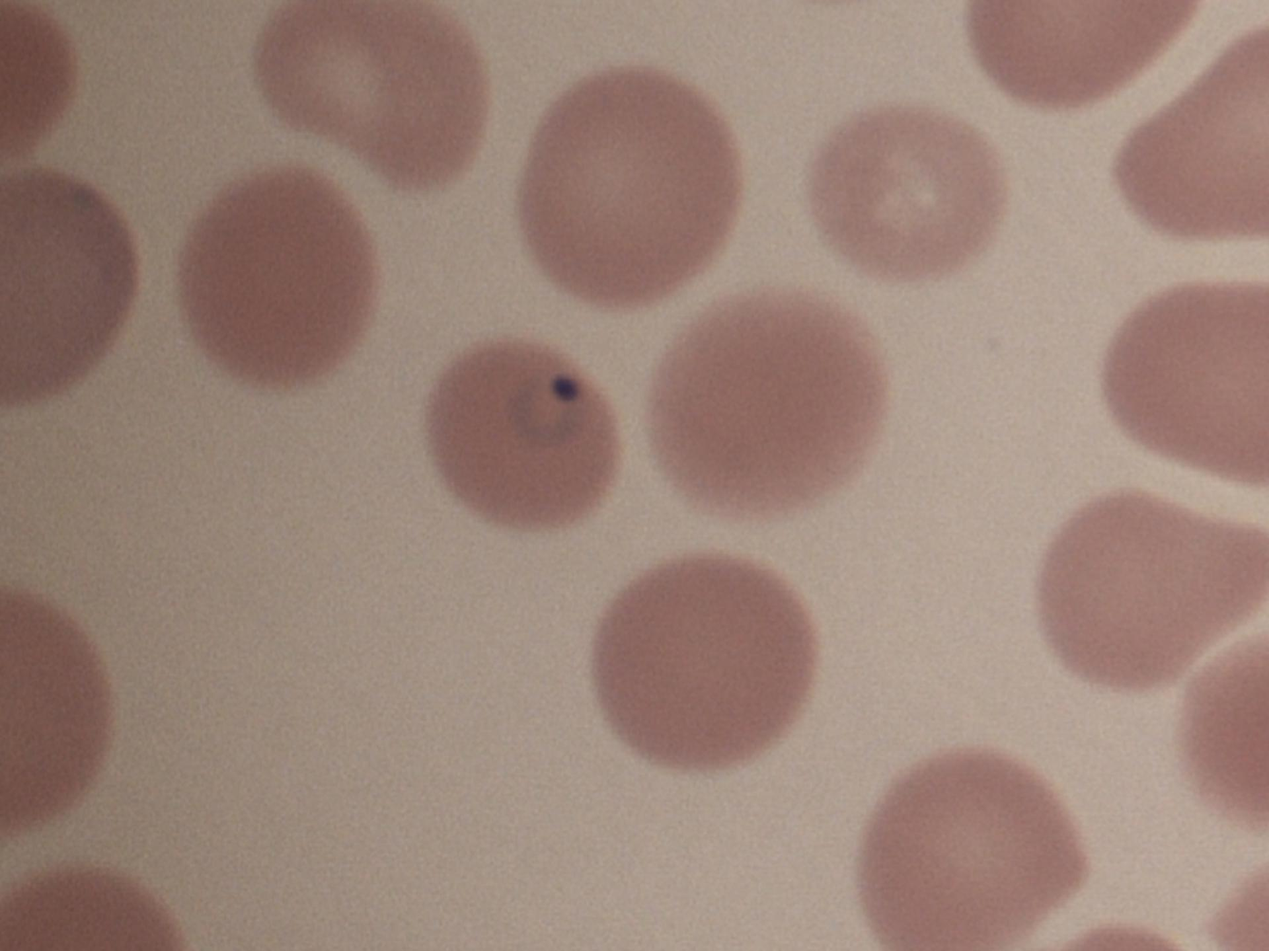Infected: (426, 339, 618, 528)
Uninfected: (514, 65, 741, 310), (648, 289, 888, 514), (592, 552, 819, 770), (856, 747, 1087, 951), (1038, 489, 1269, 691), (177, 162, 379, 388), (253, 0, 483, 194), (808, 101, 1007, 279), (1112, 30, 1269, 252), (1104, 283, 1269, 490), (0, 164, 138, 405)
